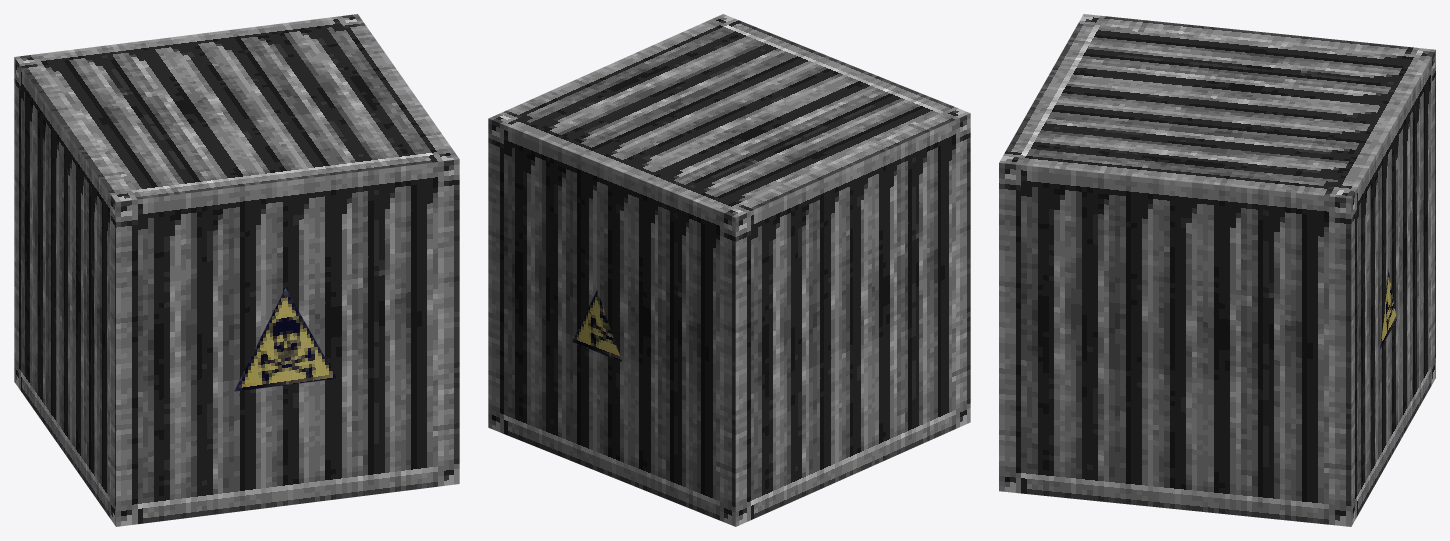
File: primary_123.glb
3 views of the same model, side by side, from view 1: azimuth 30°, elevation 25°; view 2: azimuth 150°, elevation 25°; view 3: azimuth 270°, elevation 25° (orthographic). The views are drawn at different scales.
Visible parts, largest first — view 1: Object; view 2: Object; view 3: Object.
Part boxes in pixels (x1,y1,x2,y2): Object: (14, 14, 459, 526); Object: (488, 14, 970, 526); Object: (999, 14, 1435, 526).
Bounding box in the file's own units: 1.59 × 1.32 × 1.59.
Materials: 2 (2 with a texture image).
